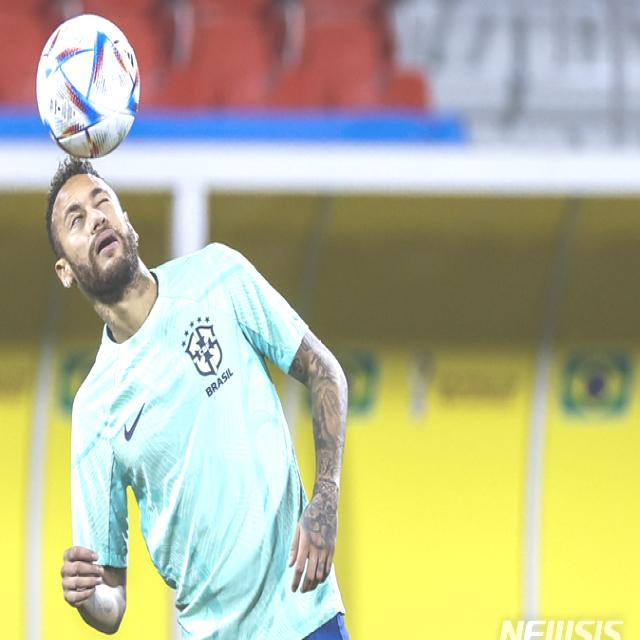neymar: (44, 154, 146, 308)
